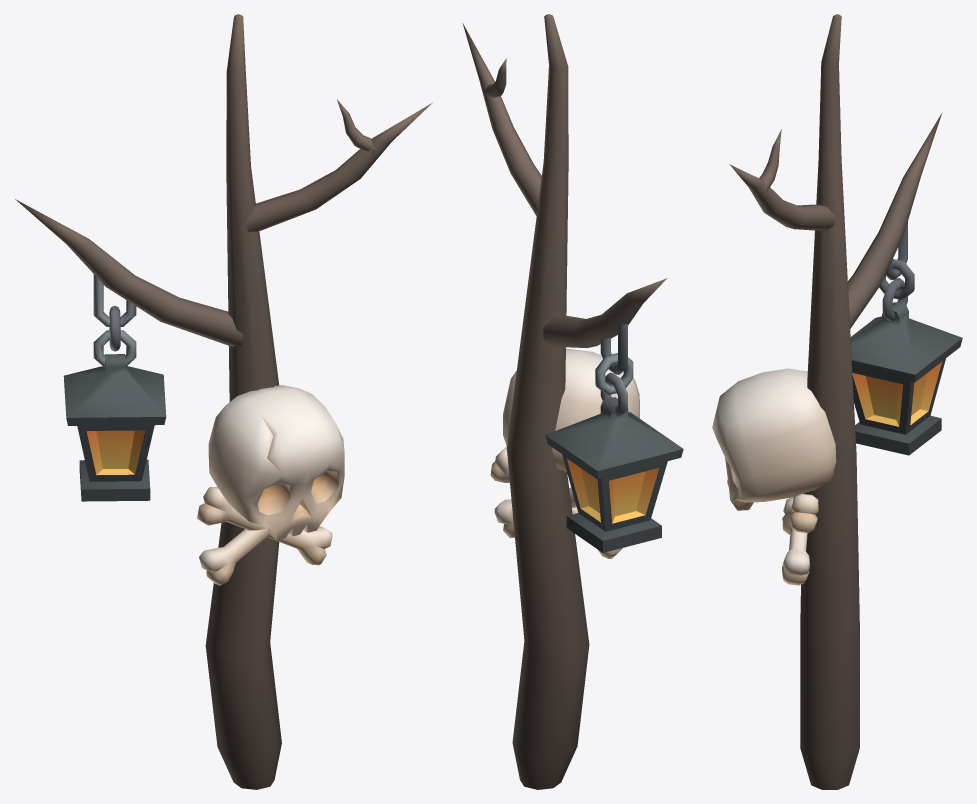
File: tree_dead_large_decorated.glb
3 renders of one model, left to right at view 1: azimuth 30°, elevation 25°; view 2: azimuth 150°, elevation 25°; view 3: azimuth 270°, elevation 25°, orthographic.
Parts seen in each view (by area): view 1: tree_dead_large_decorated; view 2: tree_dead_large_decorated; view 3: tree_dead_large_decorated.
Boxes of the visible parts, x1,y1,x2,y2 form: tree_dead_large_decorated: [15, 14, 432, 789]; tree_dead_large_decorated: [462, 14, 683, 789]; tree_dead_large_decorated: [712, 14, 962, 789].
Size of the model in its own units: 2.3 by 5.42 by 1.61.
1 material, 1 textured.
